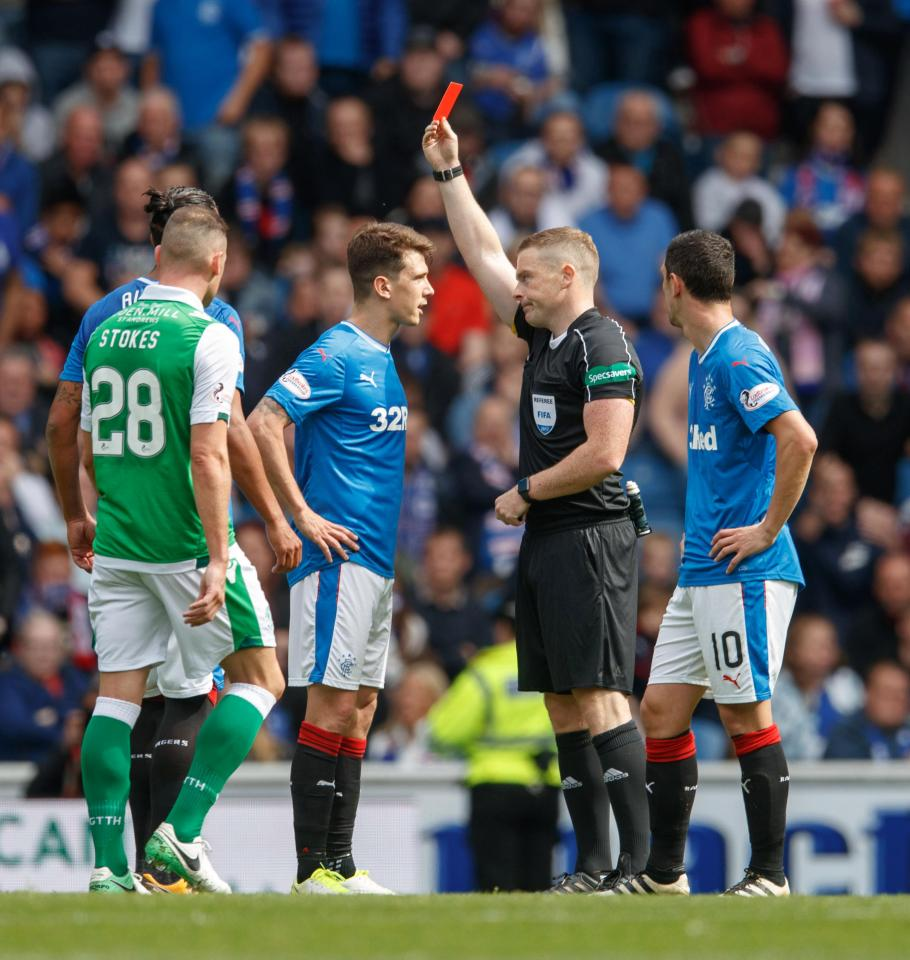red_card: (399, 71, 473, 173)
